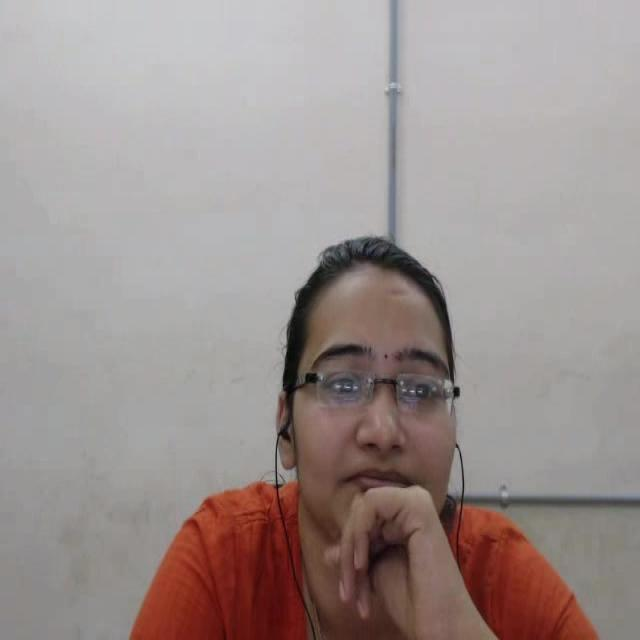Bored: (206, 202, 524, 640)
